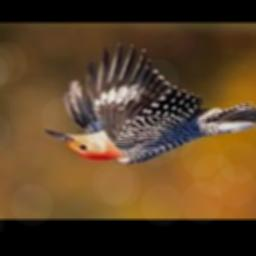Woodpecker: (44, 43, 256, 165)
